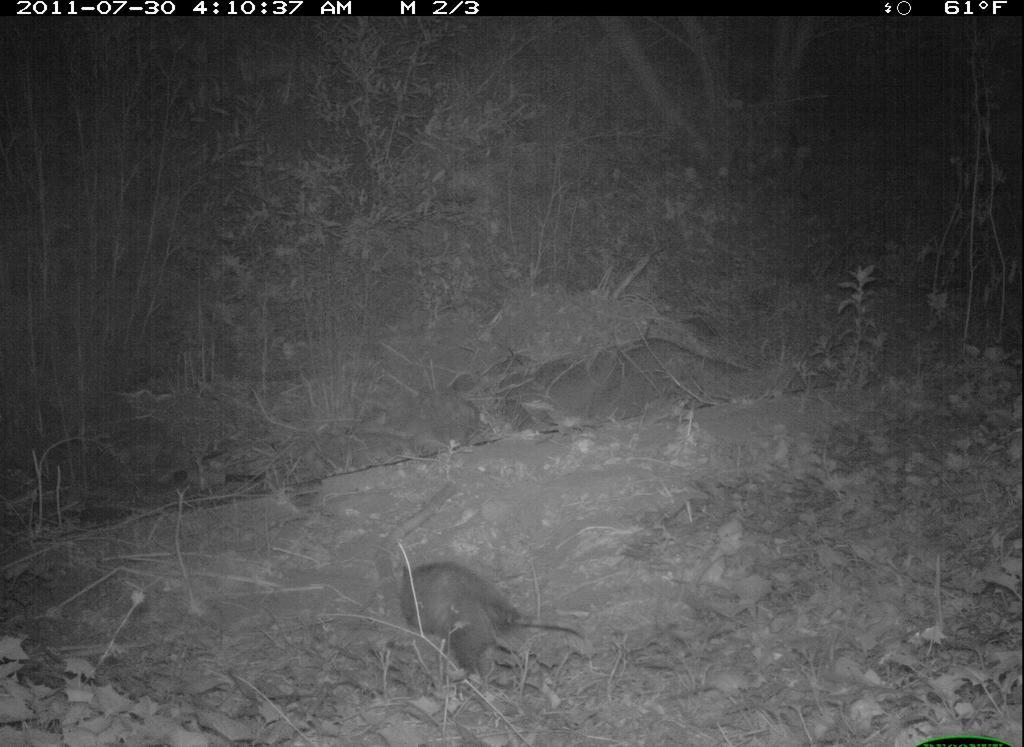opossum: (401, 561, 585, 680)
